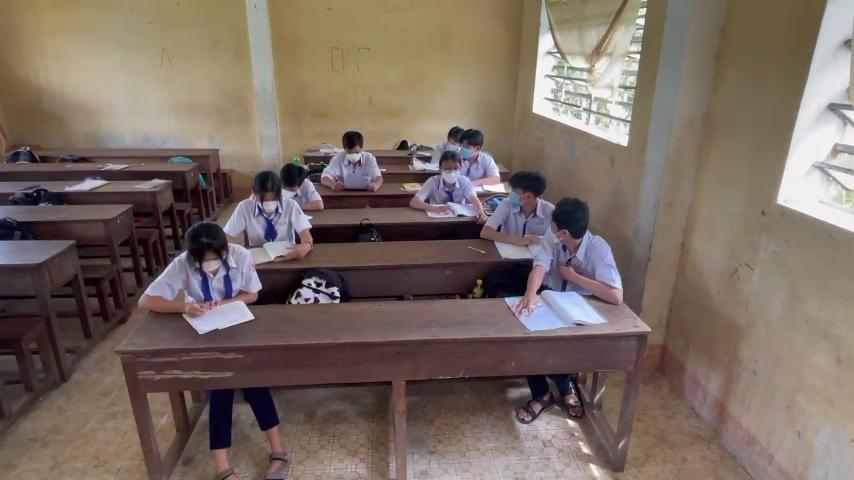Look Around: (540, 195, 598, 254), (500, 167, 548, 218), (452, 124, 495, 169)
